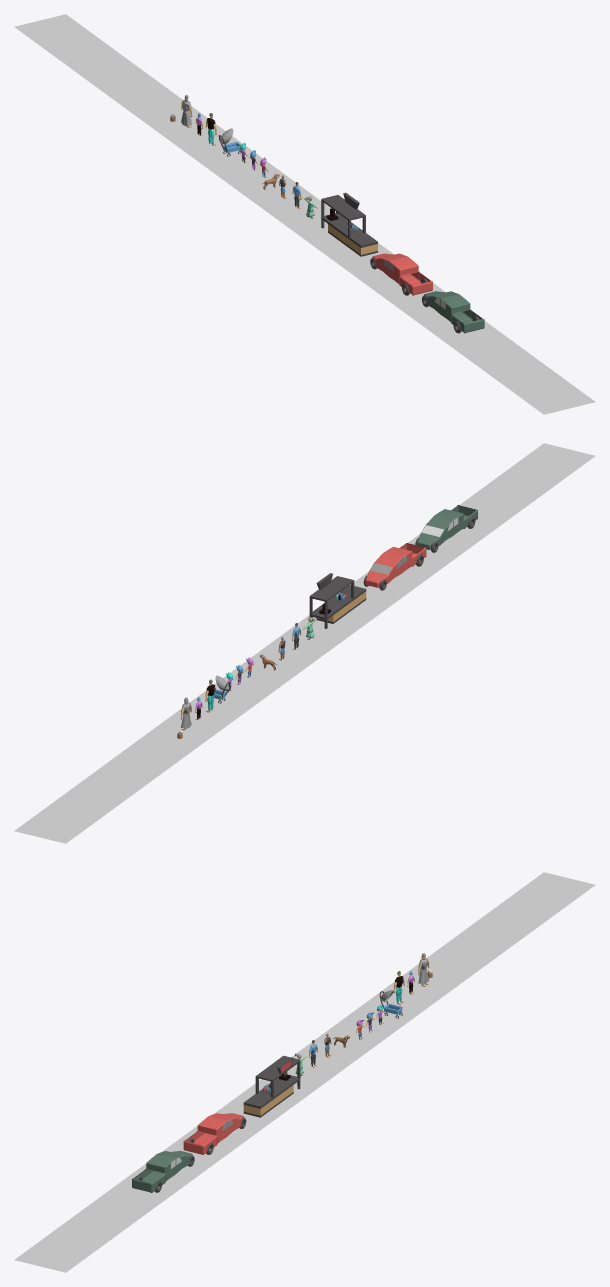
File: Dog.fbx
3 renders of one model, top to bottom at view 1: azimuth 30°, elevation 25°; view 2: azimuth 150°, elevation 25°; view 3: azimuth 330°, elevation 25°, orthographic.
Visible parts, largest first — view 1: Plane, Cube.003, Cube.006, Cube.007; view 2: Plane, Cube.003, Cube.006, Cube.007; view 3: Plane, Cube.003, Cube.006, Cube.007.
Boxes of the visible parts, left/top/right/bottom form: Plane: left=14, top=14, right=595, bottom=414; Cube.003: left=321, top=192, right=377, bottom=256; Cube.006: left=370, top=253, right=432, bottom=295; Cube.007: left=422, top=291, right=484, bottom=333; Plane: left=14, top=443, right=595, bottom=843; Cube.003: left=309, top=573, right=366, bottom=628; Cube.006: left=363, top=543, right=426, bottom=590; Cube.007: left=415, top=505, right=477, bottom=552; Plane: left=14, top=872, right=595, bottom=1272; Cube.003: left=243, top=1055, right=300, bottom=1117; Cube.006: left=183, top=1113, right=246, bottom=1154; Cube.007: left=132, top=1151, right=194, bottom=1192.
Bounding box in the file's own units: 1004 × 707 × 17734.
